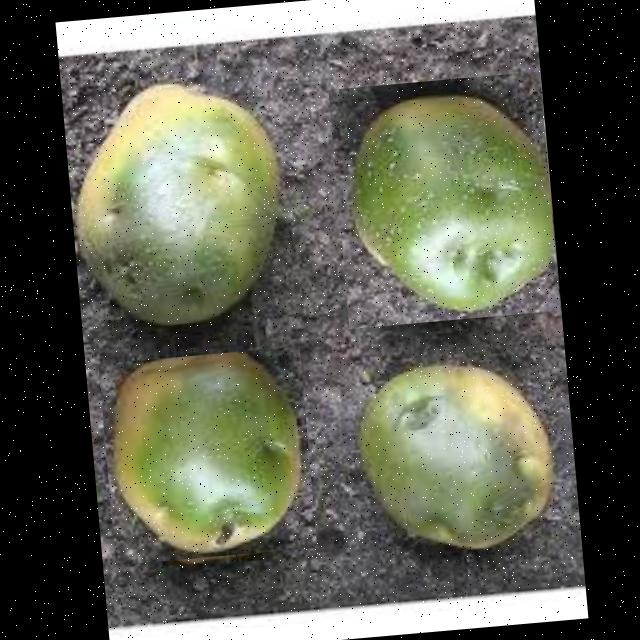Defected potato: (61, 64, 299, 334), (327, 71, 559, 329), (97, 346, 316, 565), (348, 345, 558, 569)
